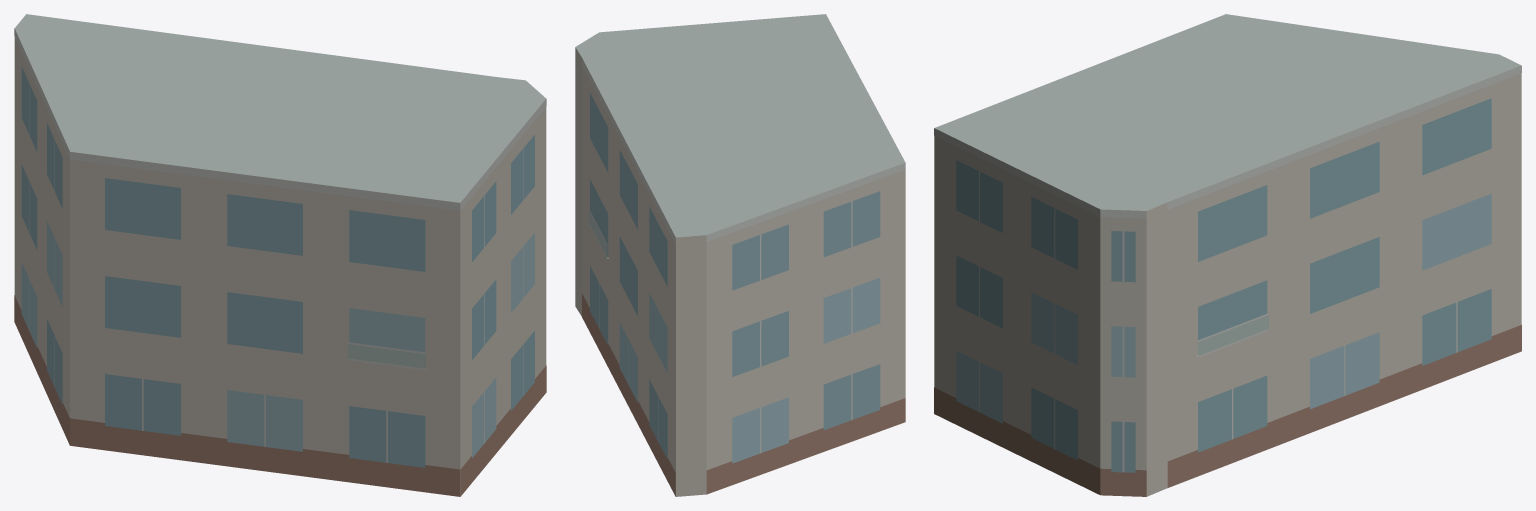
File: survey-upis-32718323.glb
The picture shows the model from 3 angles, left to right: view 1: azimuth 30°, elevation 25°; view 2: azimuth 150°, elevation 25°; view 3: azimuth 270°, elevation 25°; orthographic projection. The views are drawn at different scales.
Visible parts, largest first — view 1: survey-upis-32718323.tmp; view 2: survey-upis-32718323.tmp; view 3: survey-upis-32718323.tmp.
Boxes of the visible parts, x1,y1,x2,y2 form: survey-upis-32718323.tmp: (14,14,546,496); survey-upis-32718323.tmp: (575,14,905,496); survey-upis-32718323.tmp: (934,14,1521,496).
Size of the model in its own units: 13.53 by 9.15 by 17.05.
